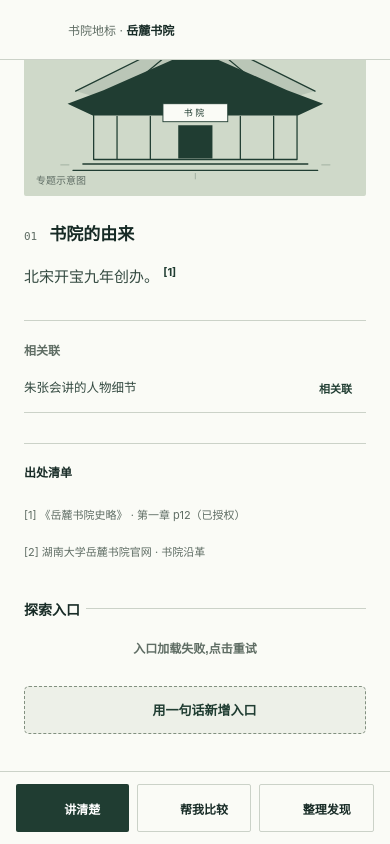
it: CardView(卡片页,04 §7.2 KCard) › 入口拉取失败:卡主内容仍渲染,入口区局部重试可恢复
(page scrolled)
Expected: the element showing "书院的由来 北宋开宝九年创办。 [1] 相关联 朱张会讲的人物细节 相关联" is shown, [24,222,366,413]
Click the button with class "retry-entry". click: (195, 647)
box: [24,629,366,666]
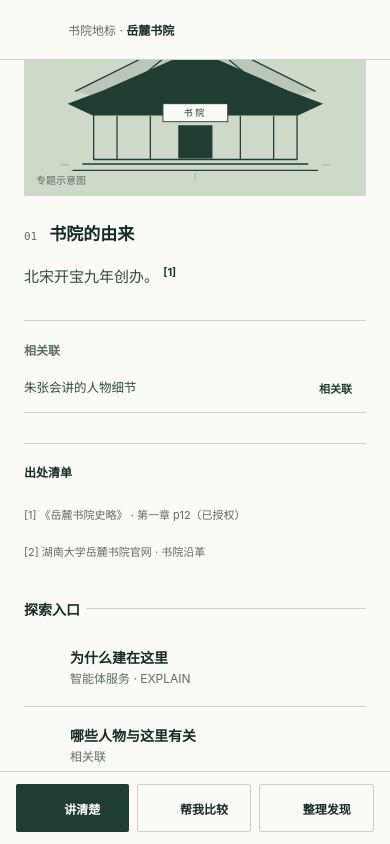
Now the number of buttons with class "entry" is 2, box [24,629,366,707]; [24,707,366,785]
Now the text "入口加载失败" is gone
